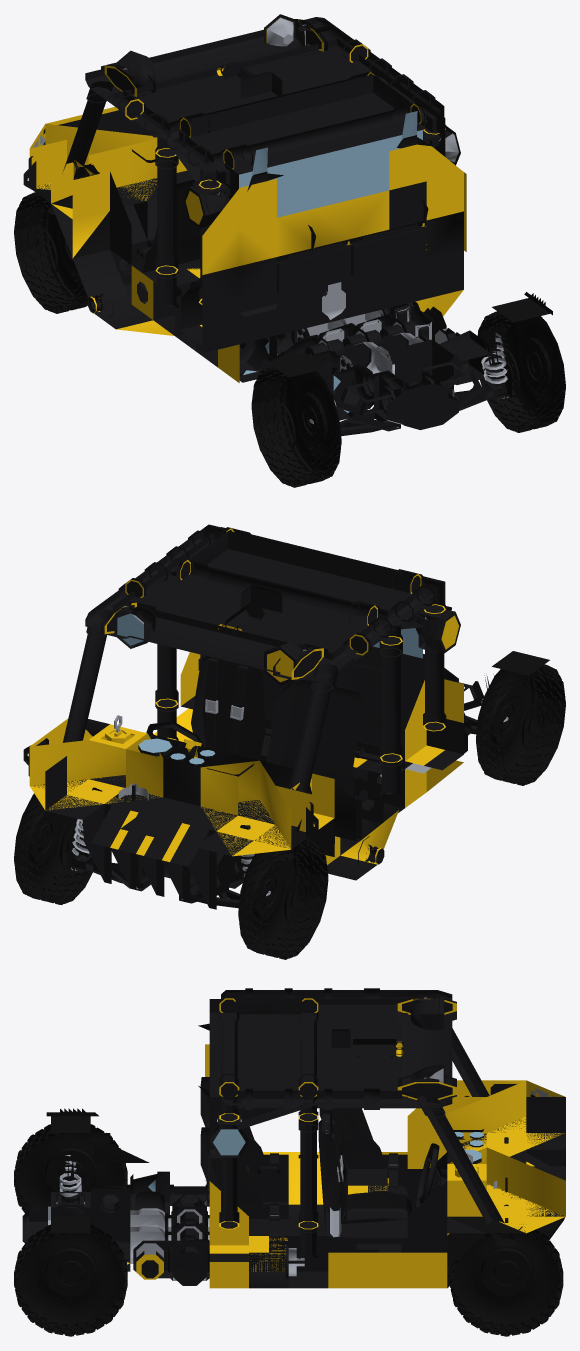
File: ranger_xp.glb
3 renders of one model, top to bottom at view 1: azimuth 30°, elevation 25°; view 2: azimuth 150°, elevation 25°; view 3: azimuth 270°, elevation 25°, orthographic. The views are drawn at different scales.
Visible parts, largest first — view 1: Body, Wheel_Tyres; view 2: Body, Wheel_Tyres; view 3: Body, Wheel_Tyres.
Part boxes in pixels (<box>): Body: <box>23,14,506,435</box>; Wheel_Tyres: <box>14,184,565,487</box>; Body: <box>23,524,494,909</box>; Wheel_Tyres: <box>14,651,565,959</box>; Body: <box>22,988,565,1288</box>; Wheel_Tyres: <box>14,1108,563,1336</box>.
Size of the model in its own units: 1.76 by 1.56 by 3.14.
